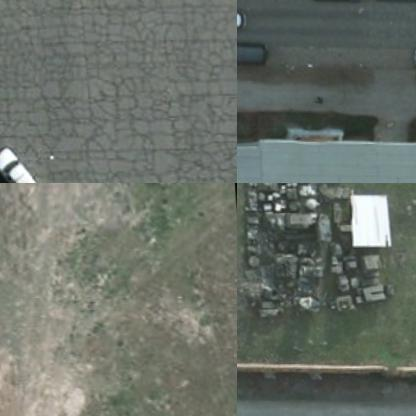car: (0, 140, 42, 182), (237, 38, 261, 64)
